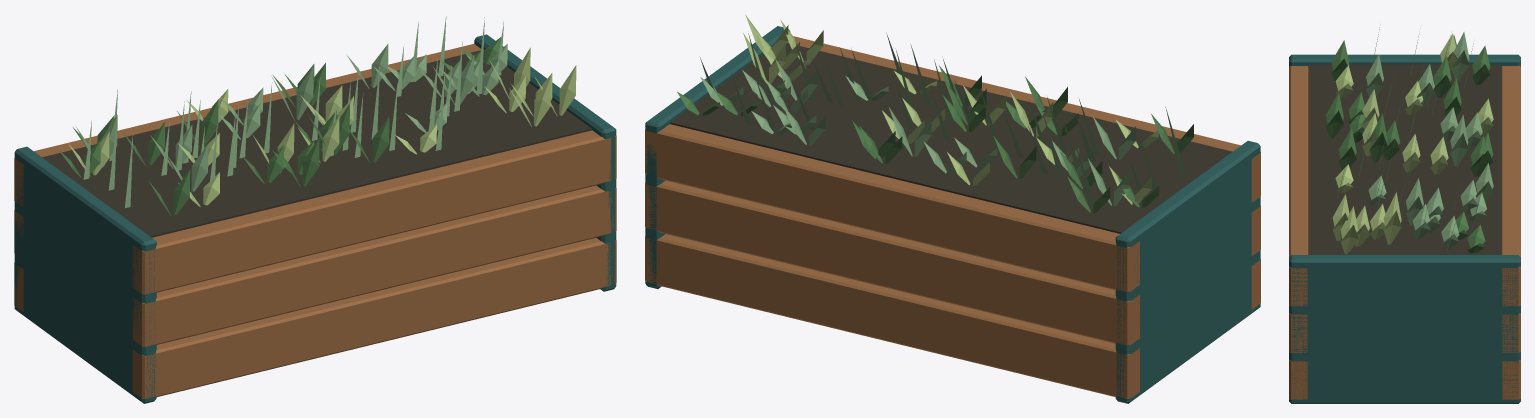
Rendered from kit_cover_planter_wide.glb.
The picture shows the model from 3 angles, left to right: view 1: azimuth 30°, elevation 25°; view 2: azimuth 150°, elevation 25°; view 3: azimuth 270°, elevation 25°; orthographic projection. The views are drawn at different scales.
Parts seen in each view (by area): view 1: kit_cover_planter_wide_mesh; view 2: kit_cover_planter_wide_mesh; view 3: kit_cover_planter_wide_mesh.
Boxes of the visible parts, x1,y1,x2,y2 form: kit_cover_planter_wide_mesh: (14,16,616,403); kit_cover_planter_wide_mesh: (645,14,1260,403); kit_cover_planter_wide_mesh: (1289,27,1520,403).
Size of the model in its own units: 1.9 by 0.8698 by 0.9.
